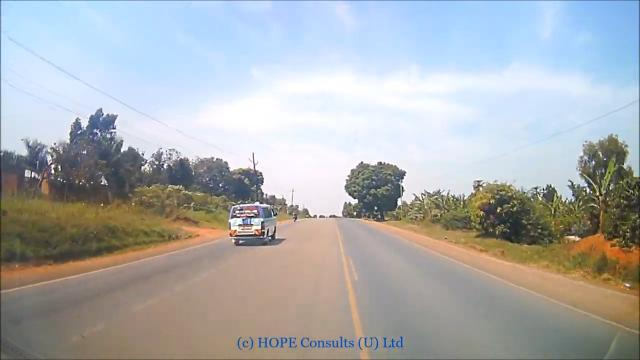van: (227, 196, 283, 247)
